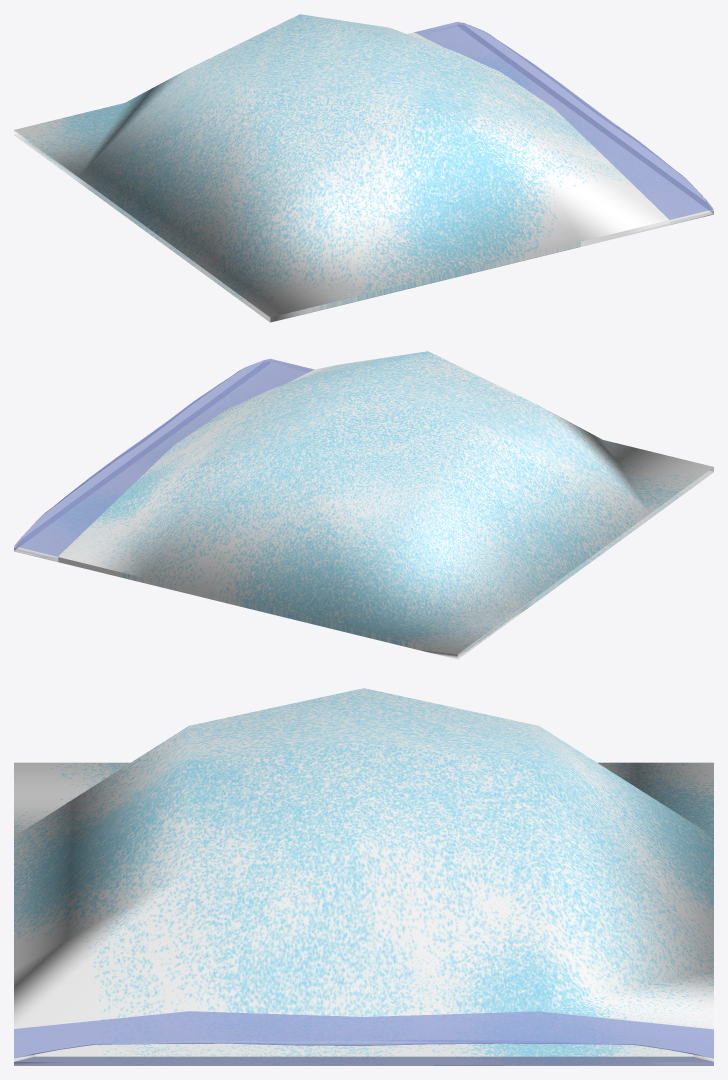
File: close Zipper bag water.fbx
3 renders of one model, top to bottom at view 1: azimuth 30°, elevation 25°; view 2: azimuth 150°, elevation 25°; view 3: azimuth 270°, elevation 25°, orthographic. The views are drawn at different scales.
Visible parts, largest first — view 1: pPlane5; view 2: pPlane5; view 3: pPlane5.
Boxes of the visible parts, bbox=[...] form: pPlane5: bbox=[14, 14, 713, 322]; pPlane5: bbox=[14, 351, 713, 659]; pPlane5: bbox=[14, 688, 713, 1065].
Bounding box in the file's own units: 3.78 × 1.04 × 3.78.
